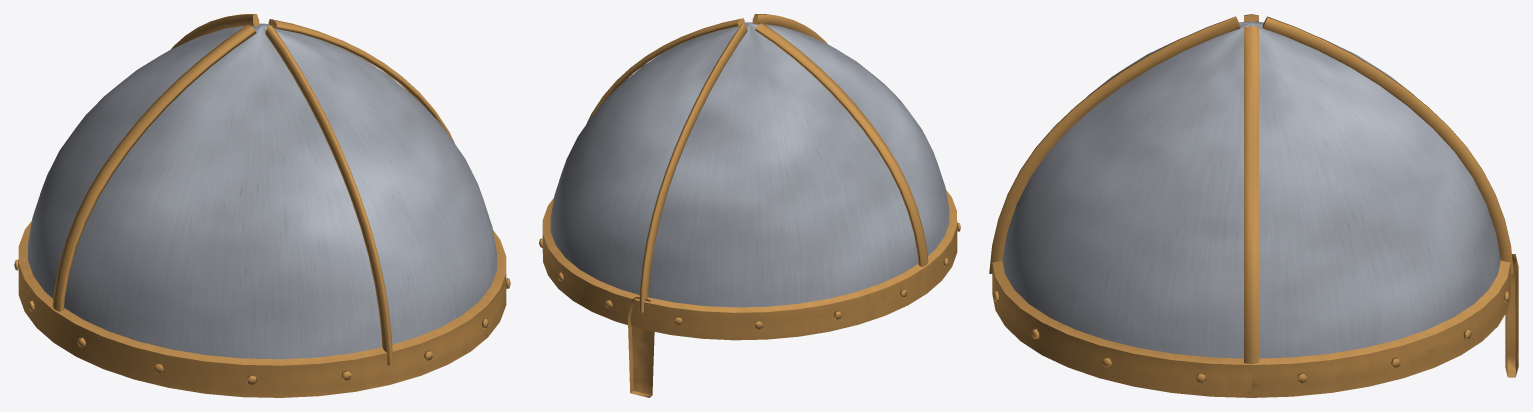
Rendered from Helmet.glb.
3 renders of one model, left to right at view 1: azimuth 30°, elevation 25°; view 2: azimuth 150°, elevation 25°; view 3: azimuth 270°, elevation 25°, orthographic. The views are drawn at different scales.
Visible parts, largest first — view 1: Helmet; view 2: Helmet; view 3: Helmet.
Part boxes in pixels (x1,y1,x2,y2): Helmet: (14,14,510,397); Helmet: (539,14,960,397); Helmet: (989,14,1518,397).
Bounding box in the file's own units: 1.49 × 1.19 × 1.6.
1 material, 1 textured.
